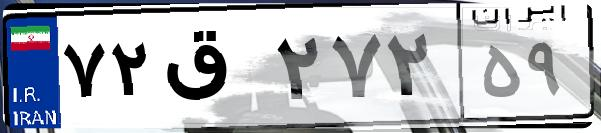2: (270, 28, 330, 110), (385, 28, 445, 110), (110, 28, 158, 98)
5: (475, 38, 525, 113)
7: (330, 28, 385, 110), (57, 26, 110, 100)
9: (525, 38, 570, 115)
ق: (158, 20, 270, 120)
